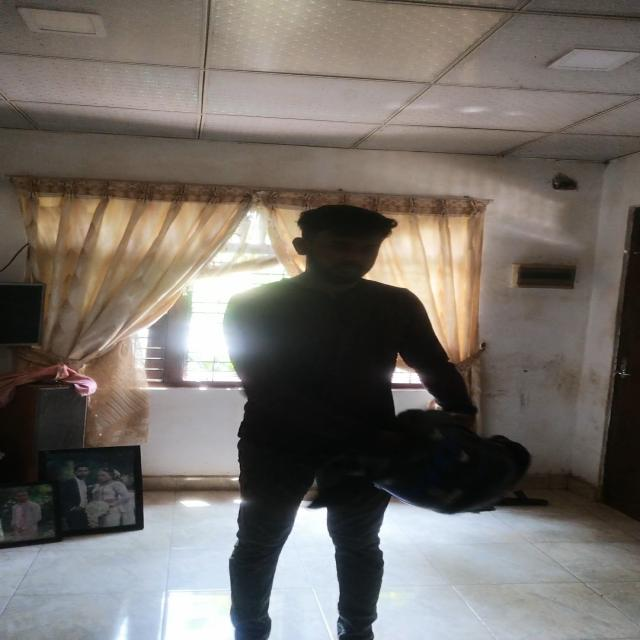Person: (220, 206, 476, 636)
